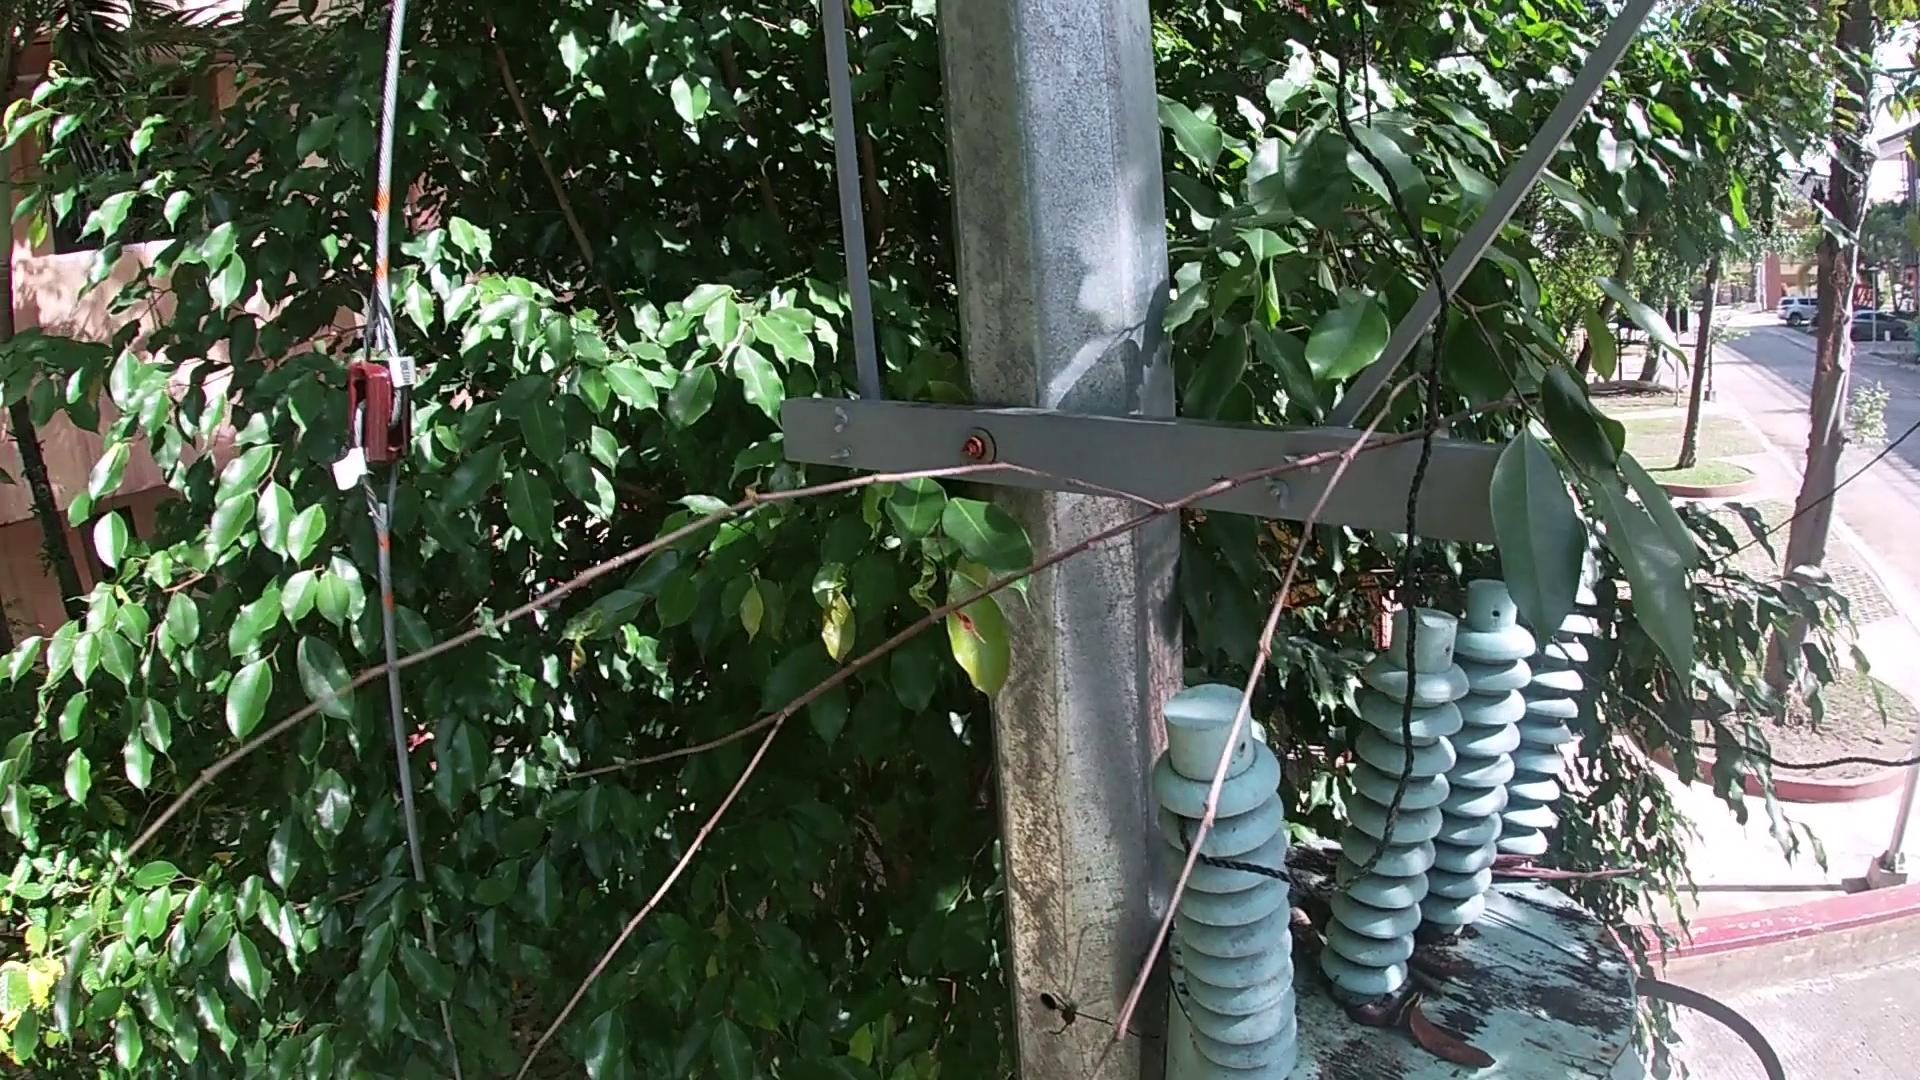leaf: (1356, 1006, 1414, 1027)
mahogany fruit: (1414, 1009, 1498, 1072), (1418, 942, 1476, 993)
tree branch: (16, 345, 1561, 1080), (1490, 909, 1604, 985), (1491, 847, 1640, 885), (1290, 878, 1335, 949), (1288, 836, 1356, 865), (1408, 967, 1452, 1004), (1472, 964, 1534, 980)
